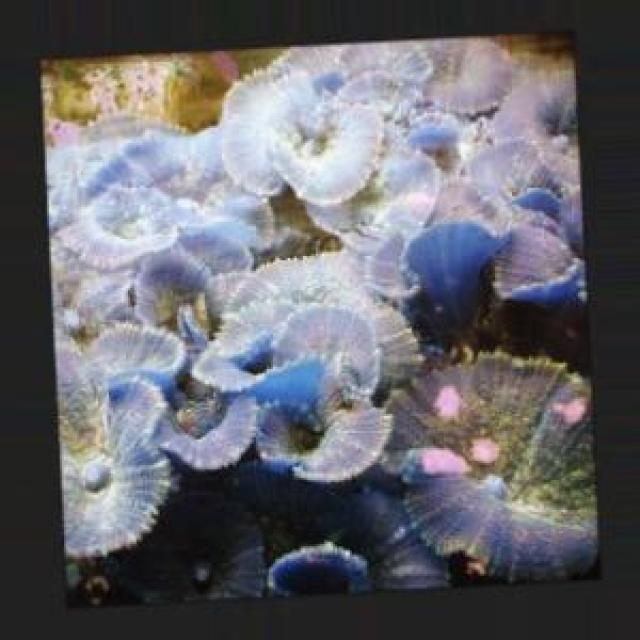Bleached: (394, 359, 598, 579), (193, 257, 408, 426), (221, 48, 438, 208), (366, 184, 530, 372), (54, 129, 270, 266), (472, 37, 583, 283), (63, 383, 174, 566), (402, 37, 575, 123), (404, 221, 511, 340), (227, 359, 347, 464), (135, 242, 248, 336), (80, 327, 189, 406), (496, 227, 586, 317)
